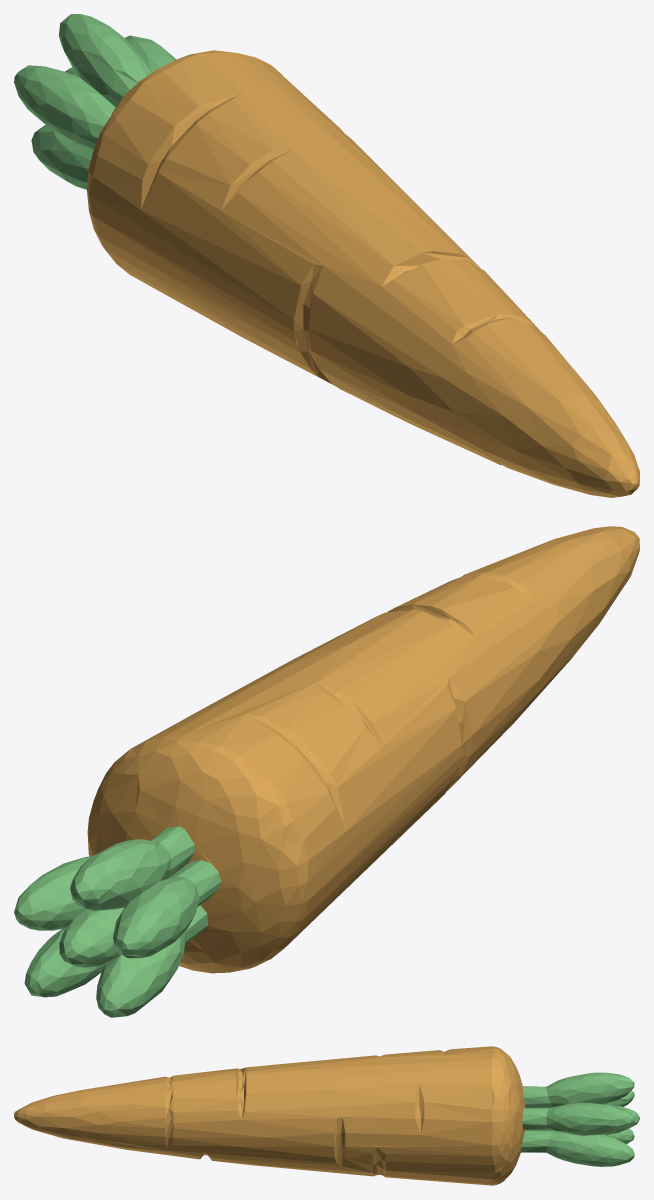
File: carrot.glb
3 renders of one model, top to bottom at view 1: azimuth 30°, elevation 25°; view 2: azimuth 150°, elevation 25°; view 3: azimuth 270°, elevation 25°, orthographic. The views are drawn at different scales.
Visible parts, largest first — view 1: Mesh_Mesh_head_geo001_lambert2SG001; view 2: Mesh_Mesh_head_geo001_lambert2SG001; view 3: Mesh_Mesh_head_geo001_lambert2SG001.
Boxes of the visible parts, x1,y1,x2,y2 form: Mesh_Mesh_head_geo001_lambert2SG001: (14,14,639,497); Mesh_Mesh_head_geo001_lambert2SG001: (14,526,639,1017); Mesh_Mesh_head_geo001_lambert2SG001: (14,1046,639,1185).
Bounding box in the file's own units: 26.95 × 26.9 × 121.
